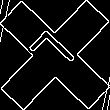L_SE: (26, 26, 84, 84)
